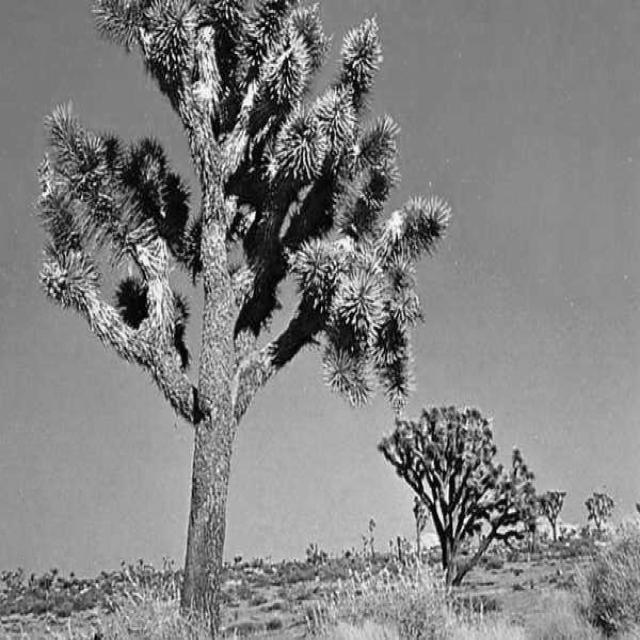Tree: (37, 1, 449, 632), (379, 407, 501, 586)
